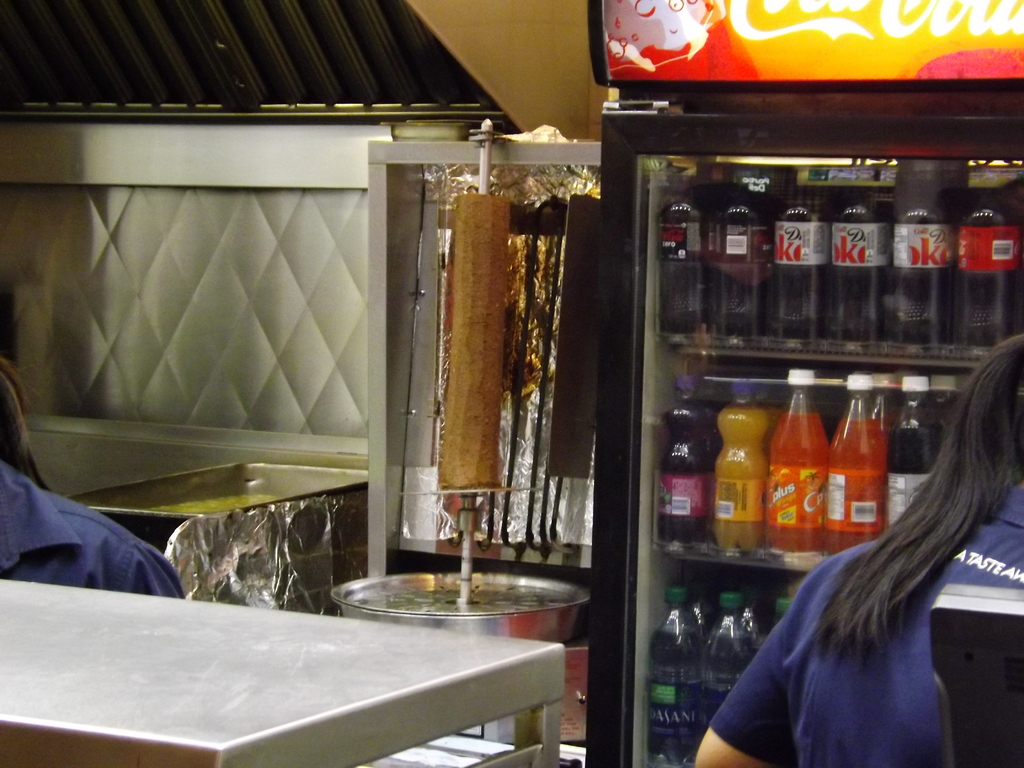refrigerator door: (622, 133, 1024, 768)
